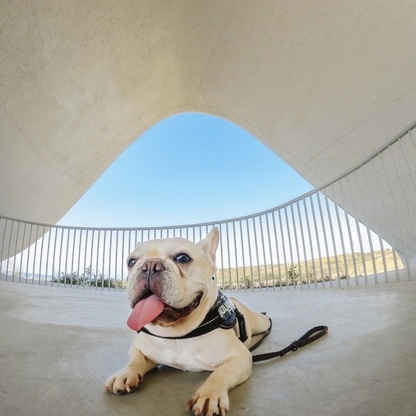bulldog: (100, 224, 276, 416)
